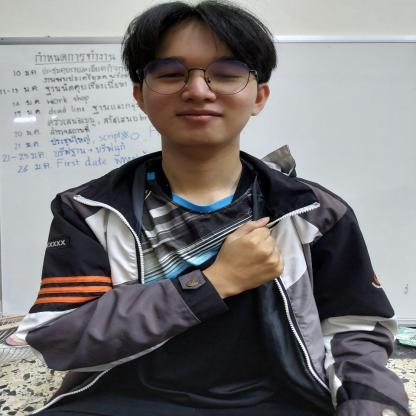Sad: (184, 212, 297, 302)
